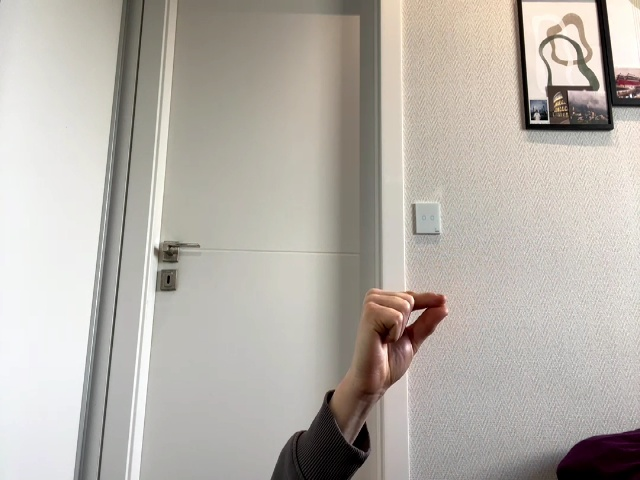P: (353, 289, 449, 424)
